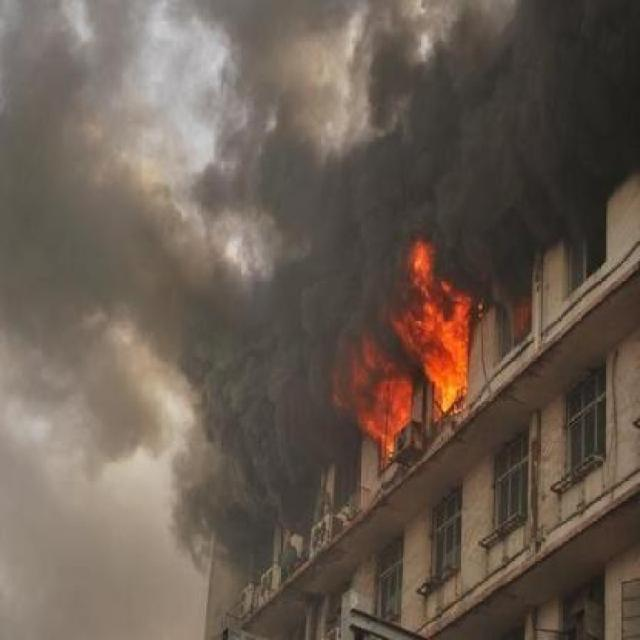Fire: (326, 233, 474, 461)
Smoke: (35, 51, 318, 530), (395, 20, 638, 233)
